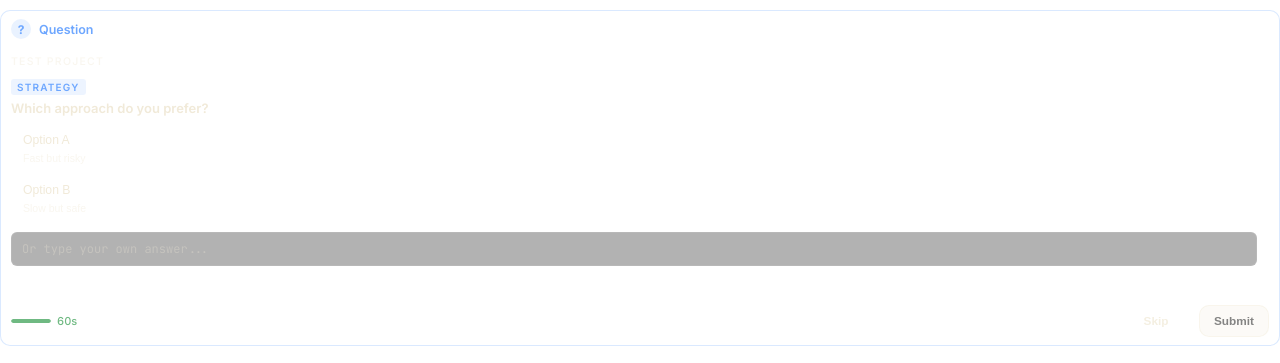
Test case: ApprovalPanel: QuestionPanel › enables Submit after answering
The width and height of the screenshot is (1280, 363).
Click the text "Option A" at (46, 140), box [23,132,70,146]
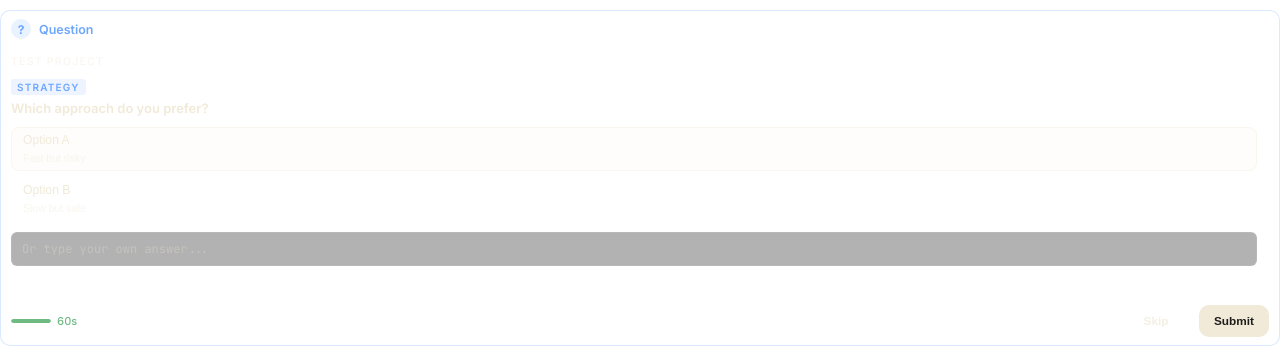
Now the button "Submit" is enabled, box [1199,305,1269,337]
